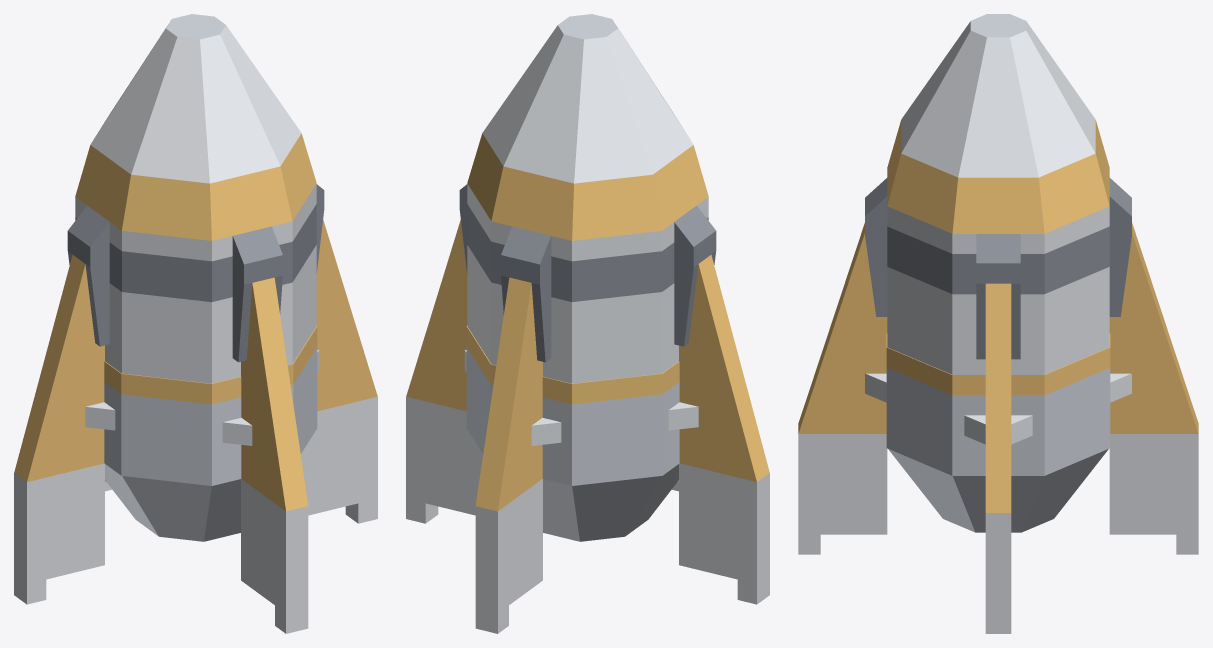
Rendered from lunar_rocket.glb.
3 renders of one model, left to right at view 1: azimuth 30°, elevation 25°; view 2: azimuth 150°, elevation 25°; view 3: azimuth 270°, elevation 25°, orthographic.
Visible parts, largest first — view 1: rocket_baseA_rocket_baseA, rocket_topA_rocket_topA, rocket_finsA_rocket_finsA, rocket_fuelA_rocket_fuelA; view 2: rocket_baseA_rocket_baseA, rocket_topA_rocket_topA, rocket_finsA_rocket_finsA, rocket_fuelA_rocket_fuelA; view 3: rocket_baseA_rocket_baseA, rocket_topA_rocket_topA, rocket_finsA_rocket_finsA, rocket_fuelA_rocket_fuelA.
Part boxes in pixels (x1=…): rocket_baseA_rocket_baseA: x1=14, y1=219, x2=377, y2=633; rocket_topA_rocket_topA: x1=75, y1=14, x2=316, y2=240; rocket_finsA_rocket_finsA: x1=67, y1=184, x2=324, y2=383; rocket_fuelA_rocket_fuelA: x1=104, y1=326, x2=317, y2=485; rocket_baseA_rocket_baseA: x1=406, y1=219, x2=769, y2=633; rocket_topA_rocket_topA: x1=467, y1=14, x2=708, y2=240; rocket_finsA_rocket_finsA: x1=459, y1=184, x2=716, y2=383; rocket_fuelA_rocket_fuelA: x1=466, y1=326, x2=679, y2=485; rocket_baseA_rocket_baseA: x1=798, y1=223, x2=1198, y2=633; rocket_topA_rocket_topA: x1=887, y1=14, x2=1109, y2=233; rocket_finsA_rocket_finsA: x1=865, y1=178, x2=1131, y2=374; rocket_fuelA_rocket_fuelA: x1=886, y1=333, x2=1110, y2=475.
Size of the model in its own units: 1.8 by 2.6 by 1.8.
